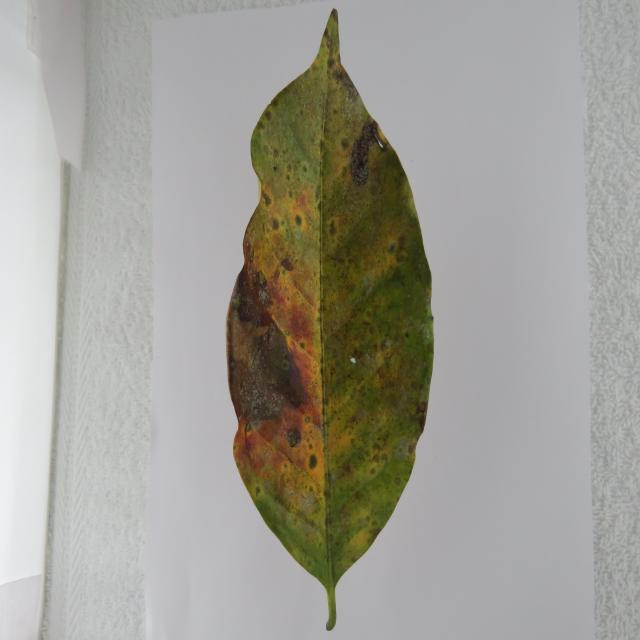DeficienciaNutricional-Fosforo: (226, 10, 434, 630)
